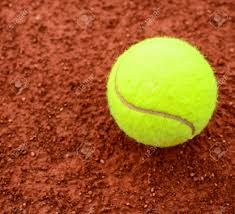tennis_ball: (107, 36, 217, 149)
